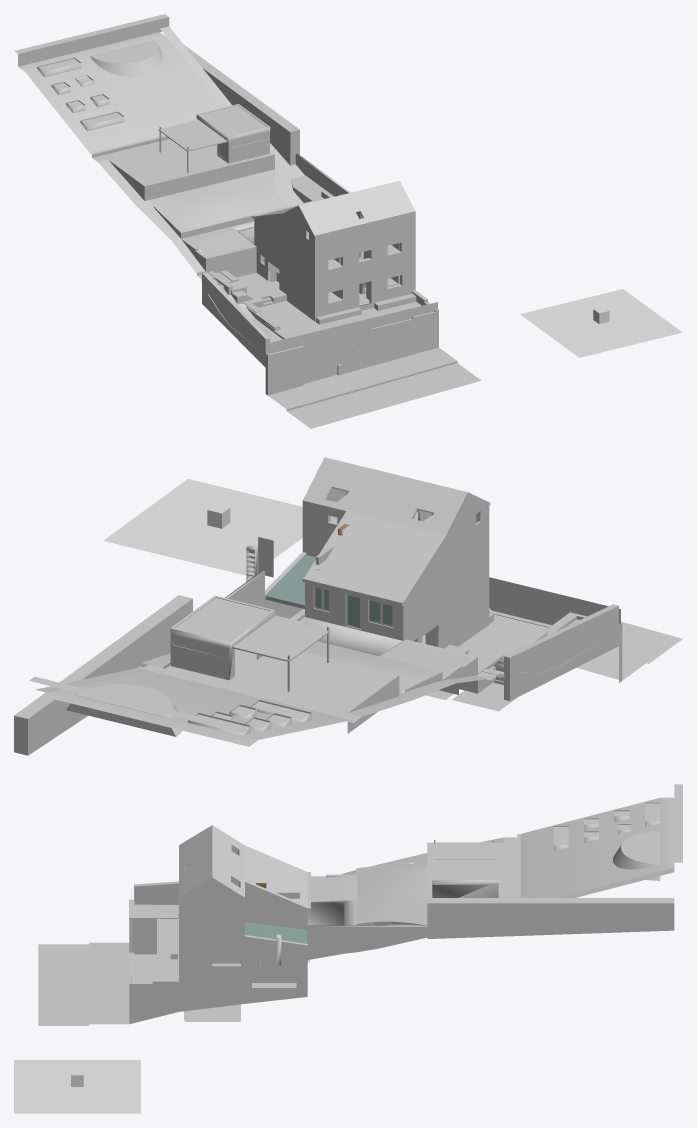
The model's file is maison_ivoz.gltf.
3 views of the same model, one above another, from view 1: azimuth 30°, elevation 25°; view 2: azimuth 150°, elevation 25°; view 3: azimuth 270°, elevation 25° (orthographic). The views are drawn at different scales.
Visible parts, largest first — view 1: Herbe, Murs, Plane.001, Object022, Chemin, rue001, Toiture, Rectangle018, trottoir, Muret, Muret003, Rectangle019 (+17 smaller); view 2: Toiture, Murs, Plane.001, Herbe, Rectangle019, Rectangle012, Chemin, Pelouse, Rectangle018, Pergolas, Cone001, Terrasse (+20 smaller); view 3: Herbe, Rectangle019, Murs, Plane.001, Toiture, rue001, Chemin, Mur mitoyen, Object022, trottoir, Object036, Cone001 (+14 smaller).
Boxes of the visible parts, x1,y1,x2,y2 form: Herbe: [18, 32, 304, 231]; Murs: [254, 207, 415, 321]; Plane.001: [520, 289, 682, 357]; Object022: [265, 290, 438, 395]; Chemin: [90, 26, 296, 272]; rue001: [289, 364, 481, 428]; Toiture: [252, 180, 415, 237]; Rectangle018: [267, 302, 437, 384]; trottoir: [268, 347, 455, 408]; Muret: [108, 151, 274, 200]; Muret003: [14, 14, 169, 66]; Rectangle019: [184, 45, 299, 165]; Toiture: [302, 457, 490, 605]; Murs: [302, 495, 489, 648]; Plane.001: [103, 479, 302, 575]; Herbe: [48, 642, 438, 746]; Rectangle019: [14, 595, 192, 755]; Rectangle012: [504, 604, 618, 700]; Chemin: [35, 618, 489, 722]; Pelouse: [167, 662, 391, 711]; Rectangle018: [489, 577, 620, 625]; Pergolas: [232, 617, 330, 661]; Cone001: [66, 684, 181, 736]; Terrasse: [230, 654, 331, 694]; Herbe: [358, 797, 674, 924]; Rectangle019: [427, 898, 674, 938]; Murs: [179, 877, 307, 1011]; Plane.001: [14, 1060, 140, 1113]; Toiture: [179, 825, 310, 910]; rue001: [38, 944, 84, 1025]; Chemin: [307, 834, 674, 925]; Mur mitoyen: [245, 935, 307, 1003]; Object022: [129, 918, 178, 1023]; trottoir: [92, 942, 129, 1024]; Object036: [307, 925, 427, 959]; Cone001: [613, 831, 660, 880].
Bounding box in the file's own units: 34.85 × 14.23 × 52.71.
